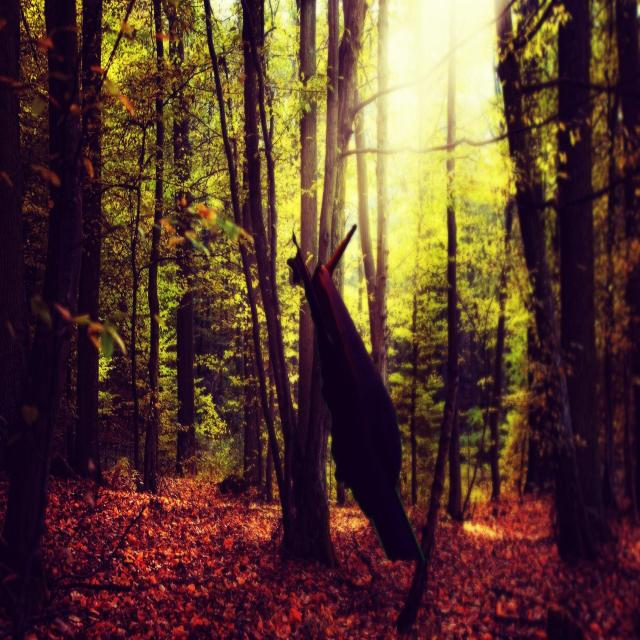airplane: (288, 220, 424, 560)
